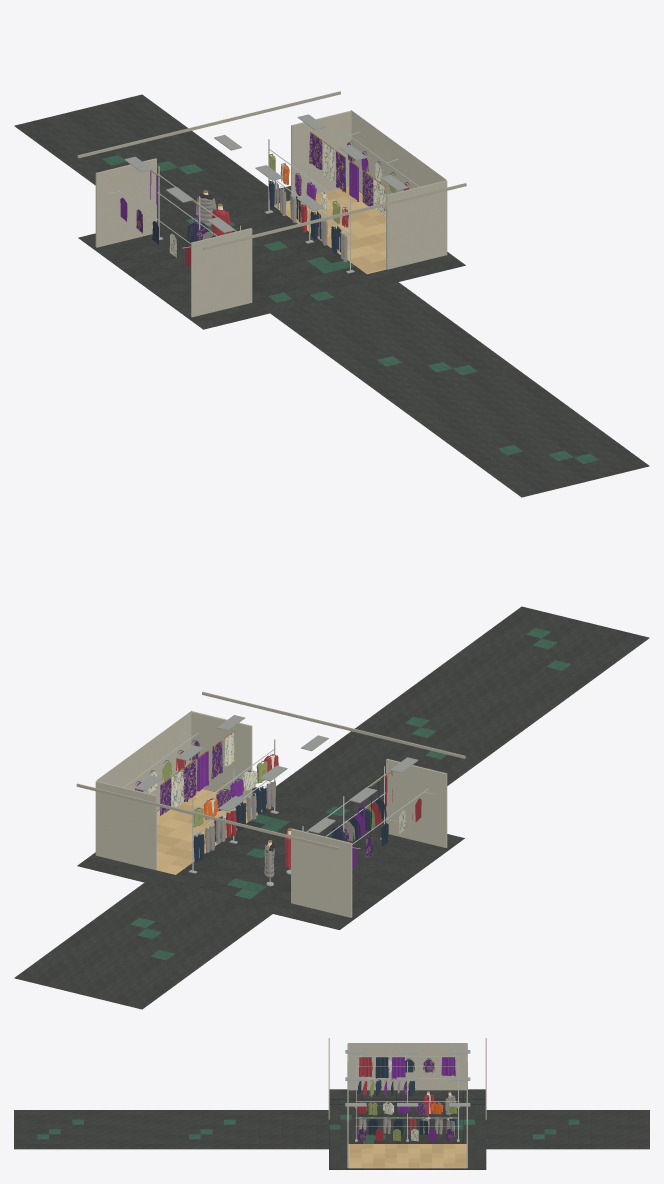
The model's file is womens-aisle.glb.
3 views of the same model, one above another, from view 1: azimuth 30°, elevation 25°; view 2: azimuth 150°, elevation 25°; view 3: azimuth 270°, elevation 25° (orthographic). The views are drawn at different scales.
Visible parts, largest first — view 1: WomensAisle; view 2: WomensAisle; view 3: WomensAisle.
Part boxes in pixels (<box>): WomensAisle: <box>14,91,649,497</box>; WomensAisle: <box>14,606,649,1009</box>; WomensAisle: <box>14,1038,649,1169</box>.
Size of the model in its own units: 10.04 by 3 by 33.6.
Materials: 1 (1 with a texture image).
